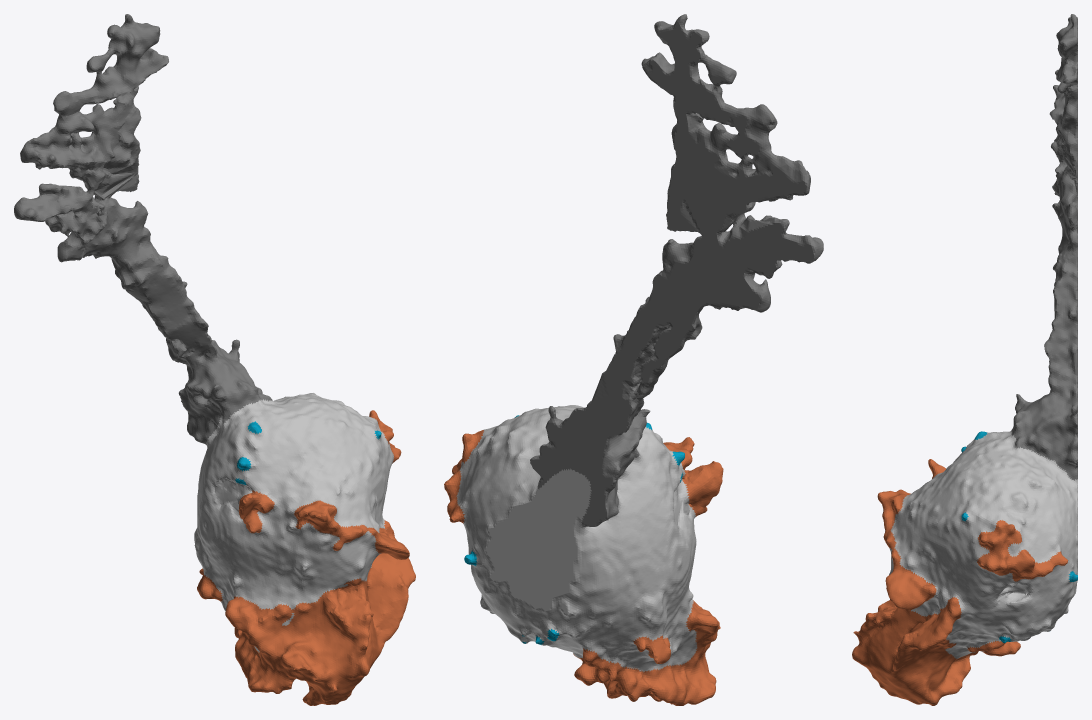
3 renders of one model, left to right at view 1: azimuth 30°, elevation 25°; view 2: azimuth 150°, elevation 25°; view 3: azimuth 270°, elevation 25°, orthographic. The views are drawn at different scales.
Size of the model in its own units: 168 by 307 by 99.51.
